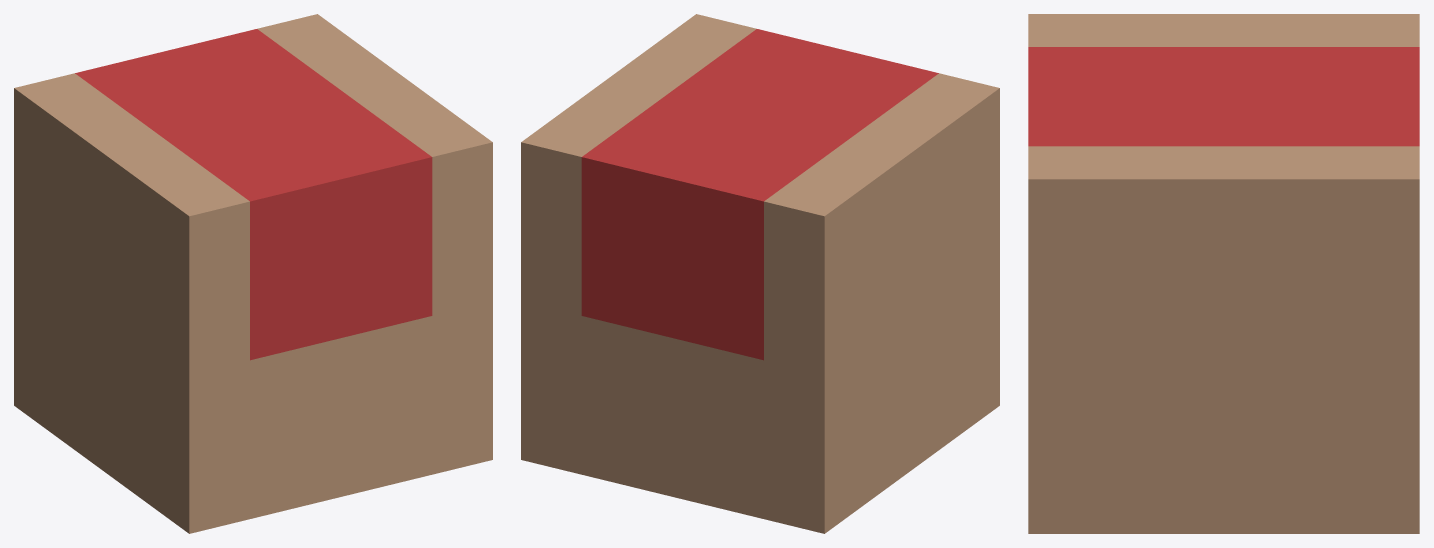
The model's file is Table.fbx.
3 renders of one model, left to right at view 1: azimuth 30°, elevation 25°; view 2: azimuth 150°, elevation 25°; view 3: azimuth 270°, elevation 25°, orthographic. The views are drawn at different scales.
Parts seen in each view (by area): view 1: Cube, Cube.001; view 2: Cube, Cube.001; view 3: Cube, Cube.001.
Boxes of the visible parts, box(x1,y1,x2,y2) form: Cube: box(14, 14, 492, 533); Cube.001: box(75, 29, 432, 360); Cube: box(521, 14, 999, 533); Cube.001: box(581, 29, 938, 360); Cube: box(1028, 14, 1419, 533); Cube.001: box(1028, 47, 1419, 146).
Bounding box in the file's own units: 200 × 200 × 200.
